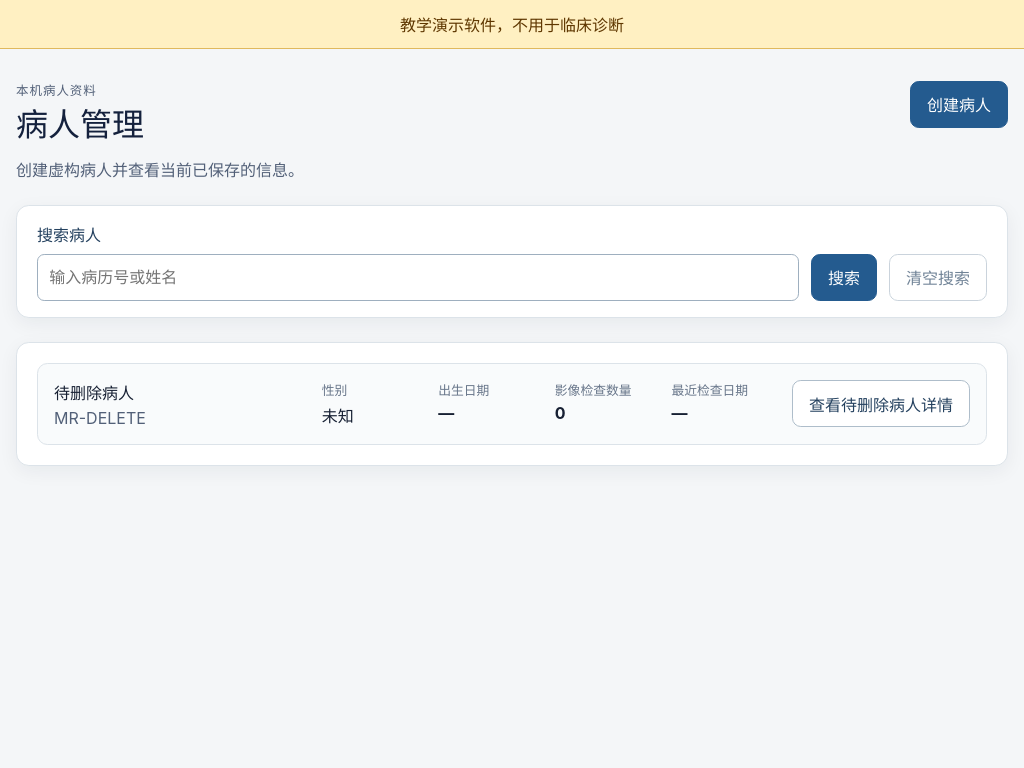
Test: PatientManagementPage delete flow › keeps list, details, and dialog when DELETE fails
Click the 4th button at (881, 404), box [792,380,970,427]
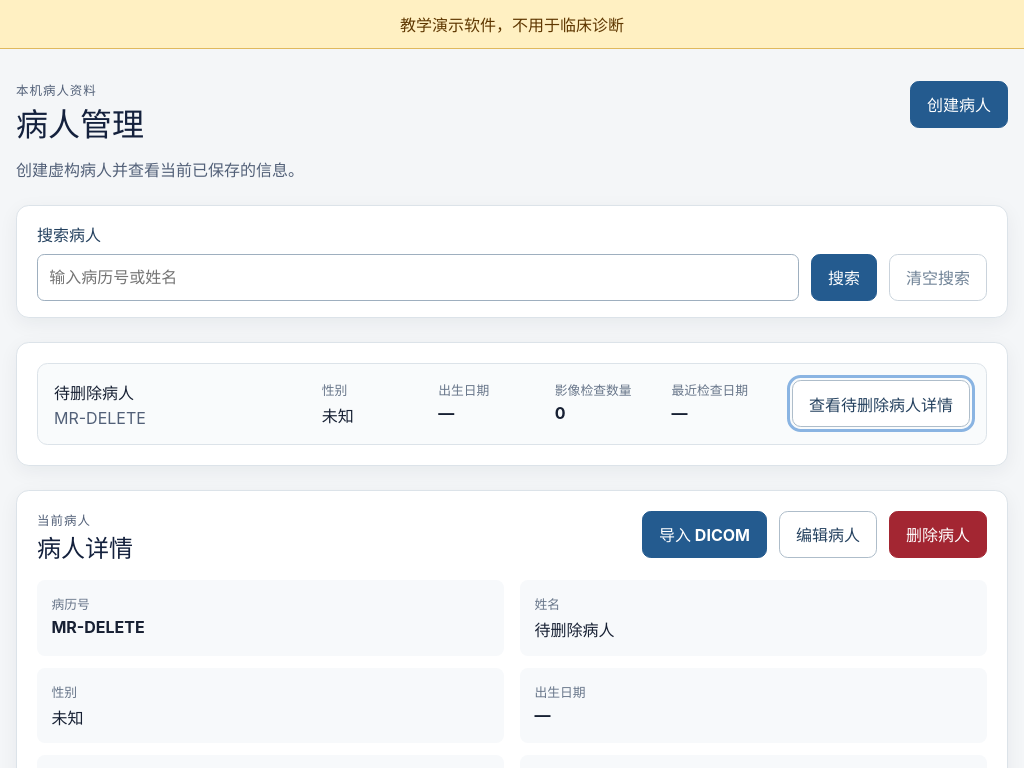
Click the button "删除病人" at (938, 534), box [889,511,987,558]
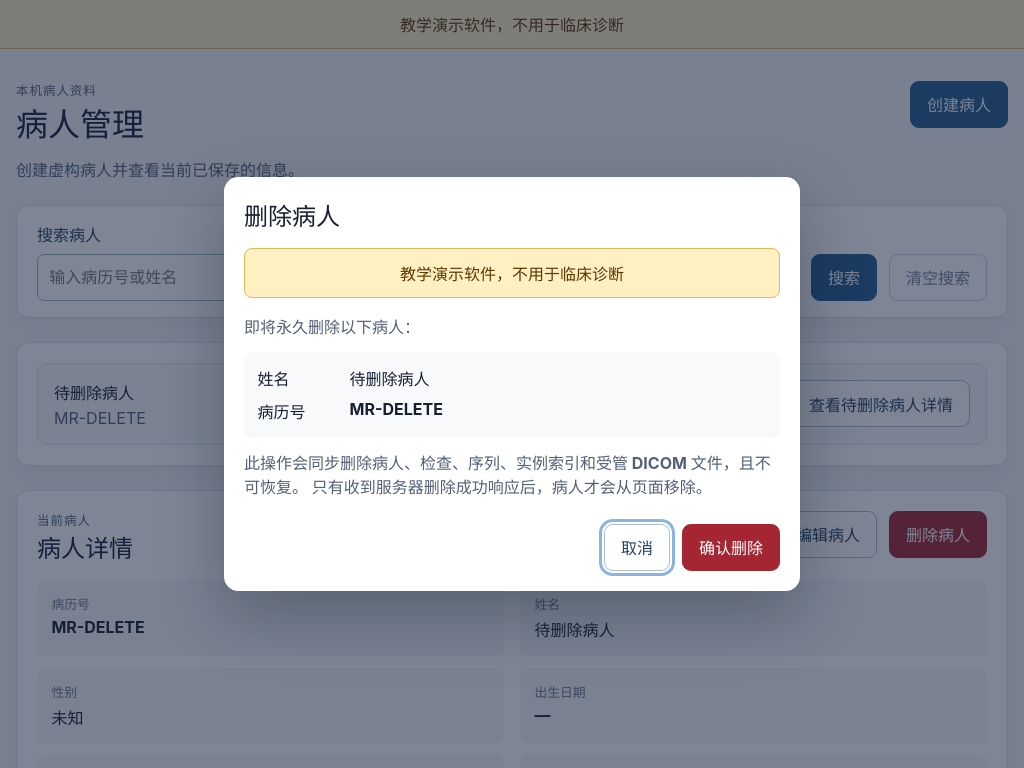
Click the button "确认删除" at (731, 547), box [682,524,780,571]
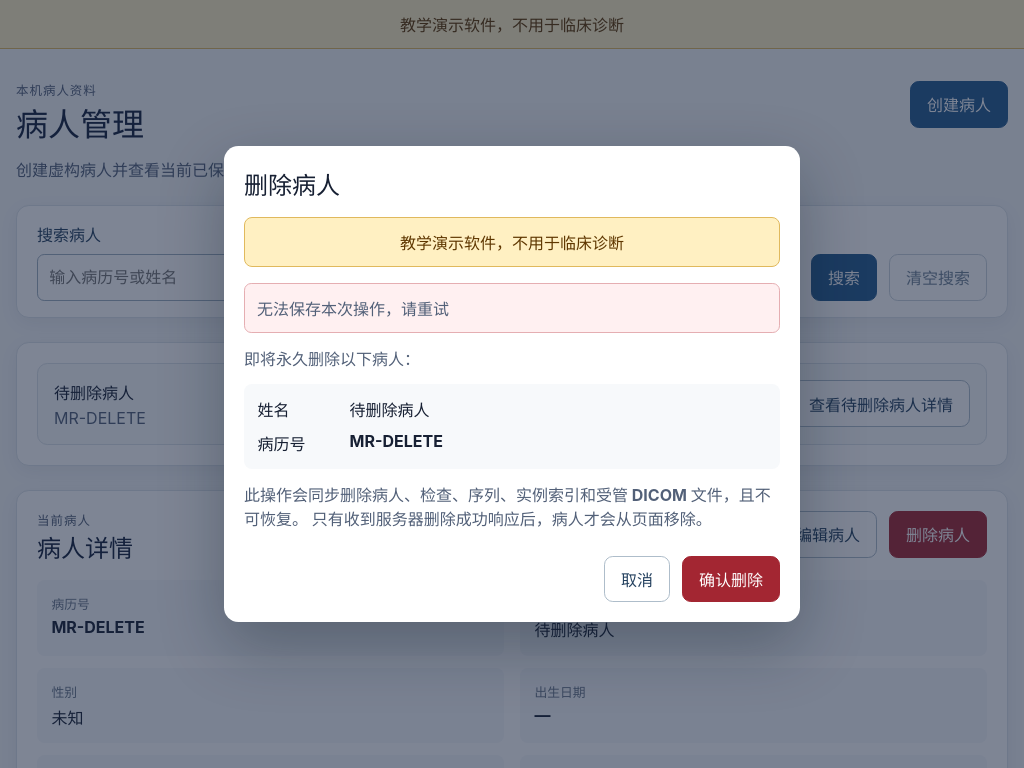
Result: the dialog "删除病人" is shown at [224,146,800,622]
Result: the 2nd text "待删除病人" is shown at [534,620,614,640]
Result: the message shows "无法保存" at [257,298,449,318]
